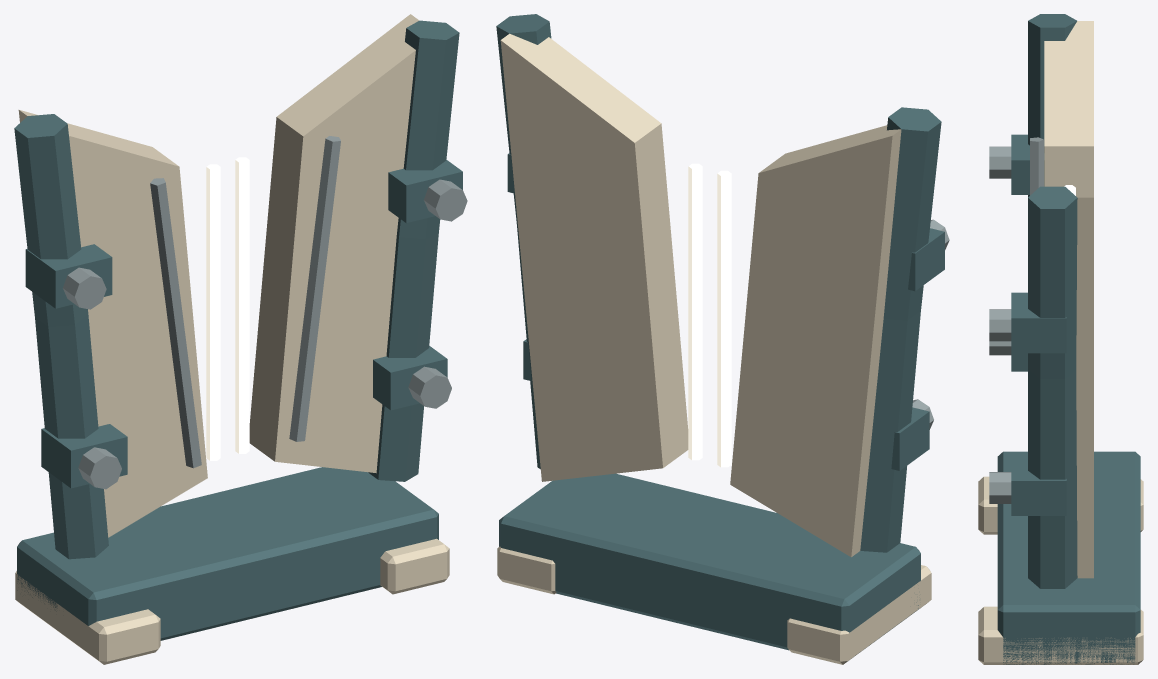
Rendered from marker_story.glb.
3 renders of one model, left to right at view 1: azimuth 30°, elevation 25°; view 2: azimuth 150°, elevation 25°; view 3: azimuth 270°, elevation 25°, orthographic. The views are drawn at different scales.
Visible parts, largest first — view 1: marker_story_iron, marker_story_bone, marker_story_steel, marker_story_pale; view 2: marker_story_bone, marker_story_iron, marker_story_pale; view 3: marker_story_iron, marker_story_bone, marker_story_steel.
Part boxes in pixels (x1=…): marker_story_iron: x1=14, y1=20, x2=462, y2=640; marker_story_bone: x1=15, y1=14, x2=449, y2=664; marker_story_steel: x1=63, y1=136, x2=467, y2=489; marker_story_pale: x1=206, y1=157, x2=249, y2=460; marker_story_bone: x1=497, y1=33, x2=931, y2=664; marker_story_iron: x1=496, y1=14, x2=944, y2=657; marker_story_pale: x1=688, y1=163, x2=731, y2=467; marker_story_iron: x1=997, y1=14, x2=1140, y2=664; marker_story_bone: x1=978, y1=21, x2=1143, y2=664; marker_story_steel: x1=989, y1=137, x2=1043, y2=503.
Bounding box in the file's own units: 0.8375 × 0.9643 × 0.3.
